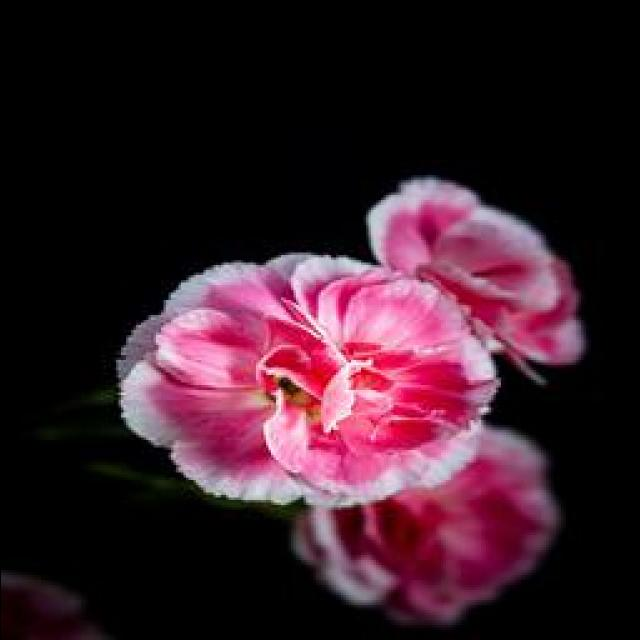carnation: (120, 250, 507, 507)
